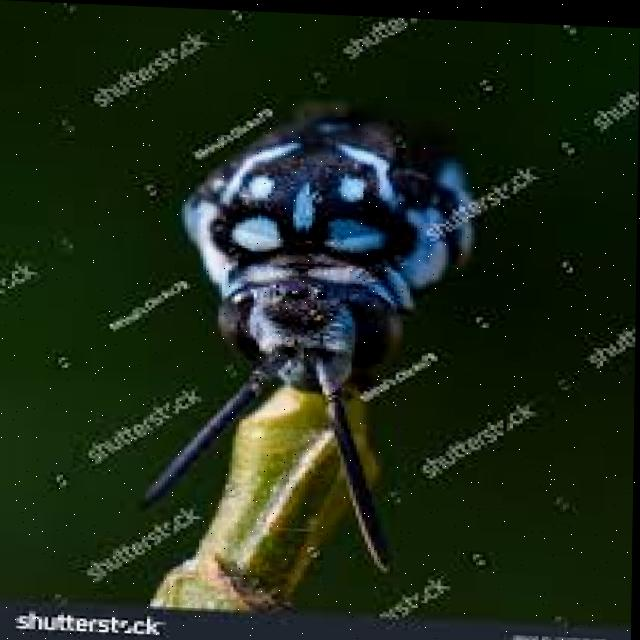Thyreus: (131, 83, 465, 577)
